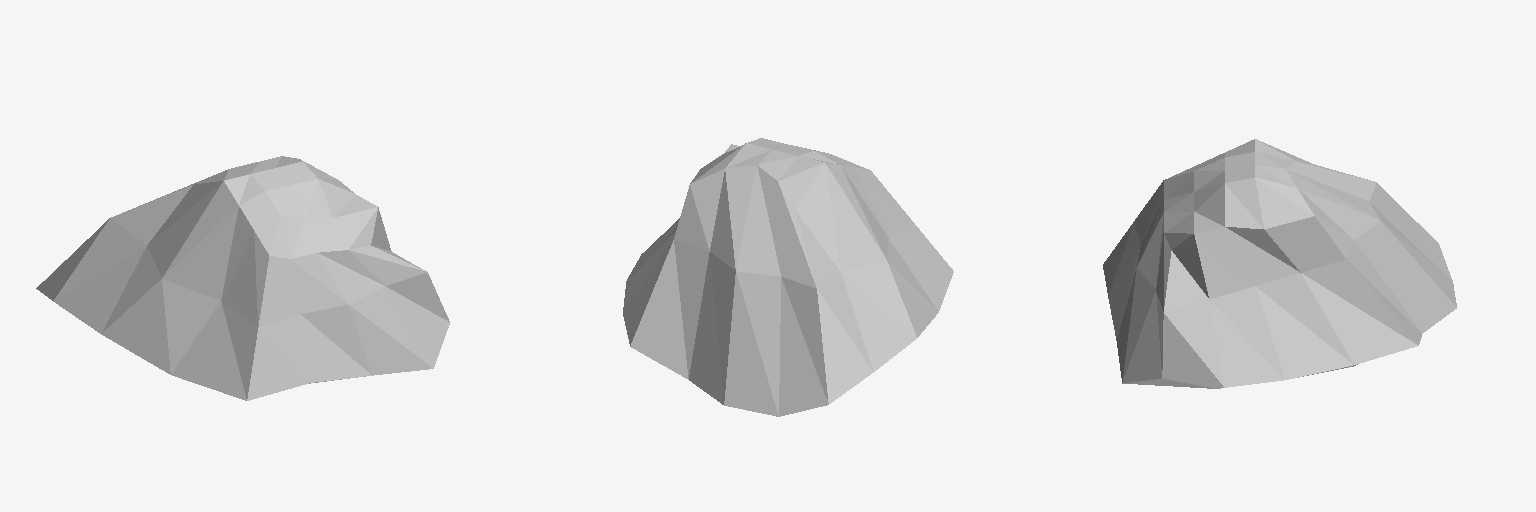
Rendered from Rock_1.obj.
3 views of the same model, side by side, from view 1: azimuth 30°, elevation 25°; view 2: azimuth 150°, elevation 25°; view 3: azimuth 270°, elevation 25° (orthographic).
Visible parts, largest first — view 1: Cube; view 2: Cube; view 3: Cube.
Boxes of the visible parts, <box> form: Cube: <box>36,156,449,400</box>; Cube: <box>623,138,953,416</box>; Cube: <box>1103,139,1456,388</box>.
Size of the model in its own units: 5.85 by 3.45 by 5.82.